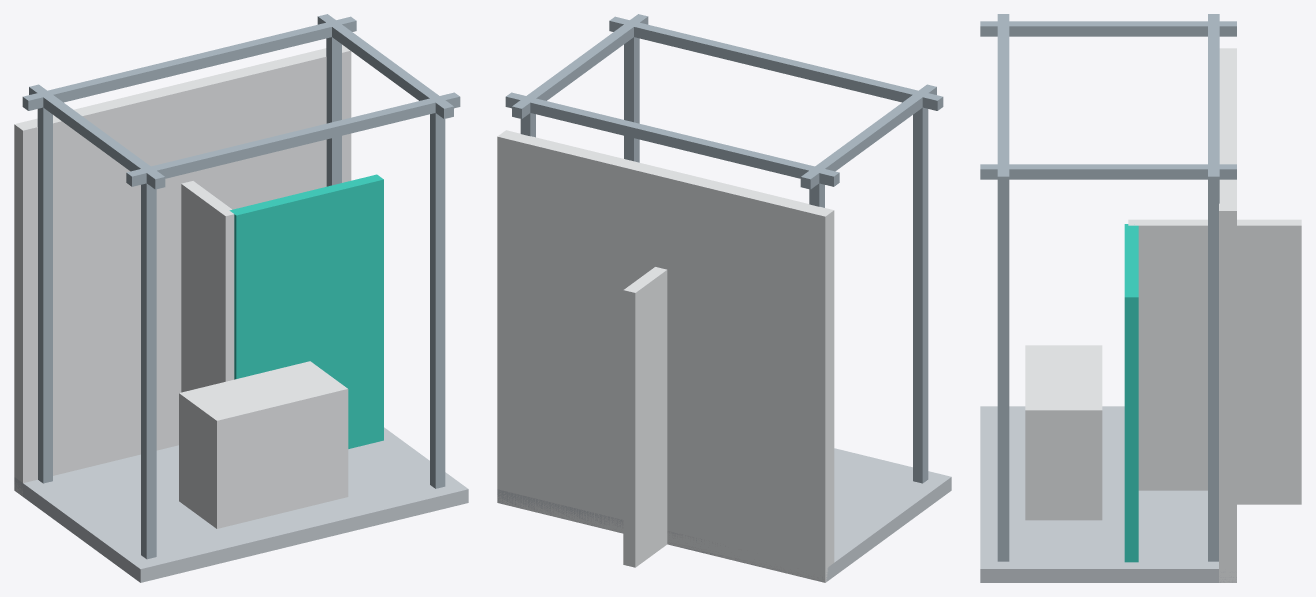
The picture shows the model from 3 angles, left to right: view 1: azimuth 30°, elevation 25°; view 2: azimuth 150°, elevation 25°; view 3: azimuth 270°, elevation 25°; orthographic projection.
Visible parts, largest first — view 1: Exhibition Booth Concept; view 2: Exhibition Booth Concept; view 3: Exhibition Booth Concept.
Part boxes in pixels (x1,y1,x2,y2): Exhibition Booth Concept: (14,14,468,582); Exhibition Booth Concept: (497,14,951,582); Exhibition Booth Concept: (980,14,1301,582).
Bounding box in the file's own units: 3 × 3.49 × 2.5.
